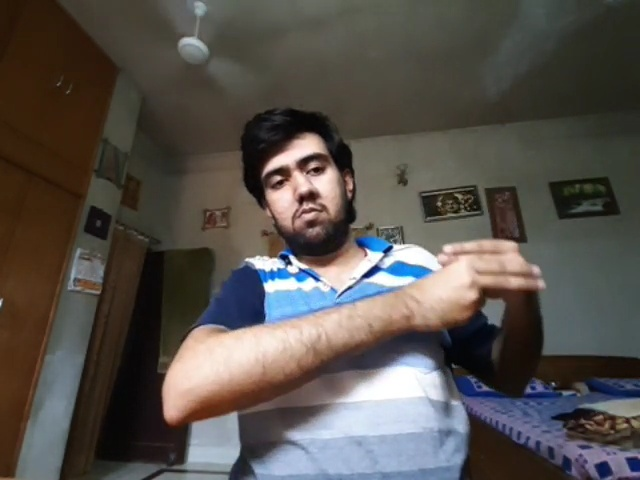Name: (425, 238, 546, 321)
